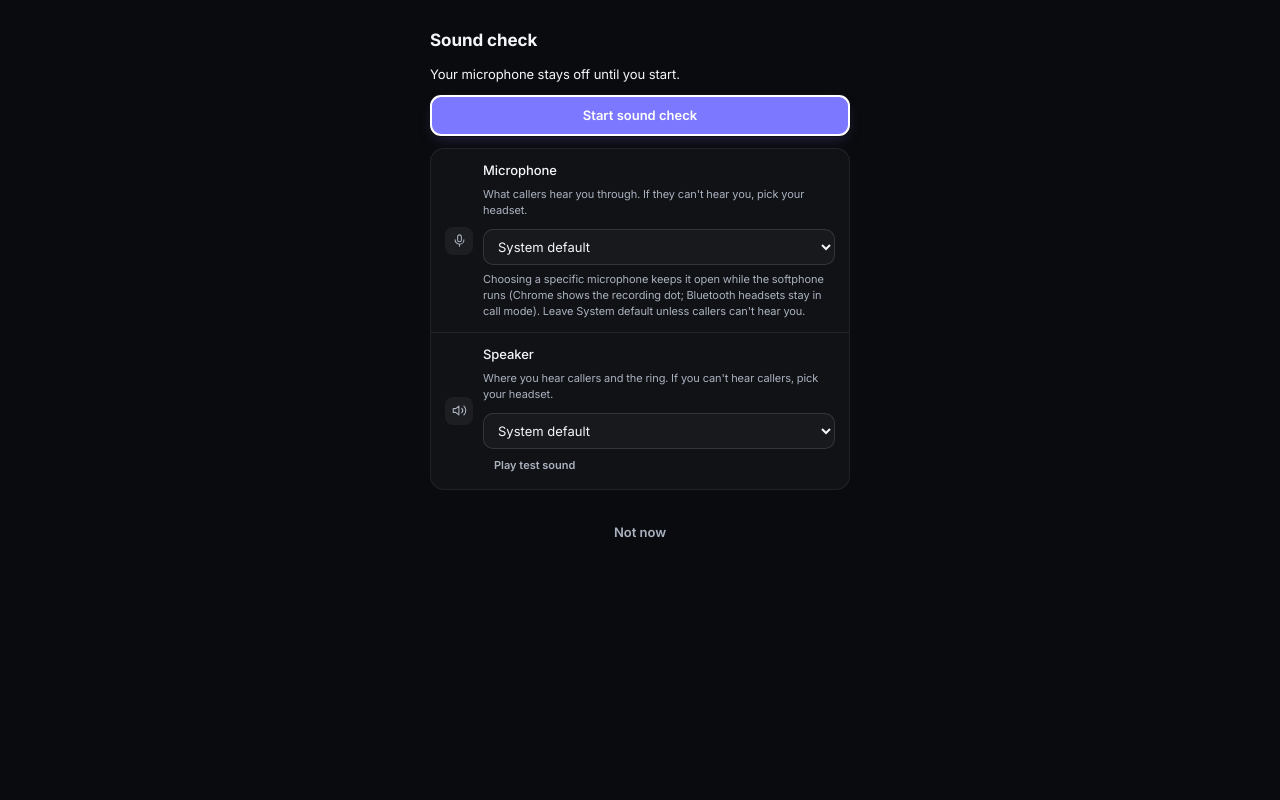
Test case: SoundCheck — an auto-opened check waits for a click › allowed: no getUserMedia until "Start sound check" is clicked; then the meter runs
Click the button "Start sound check" at [640, 116], box [430,96,850,136]
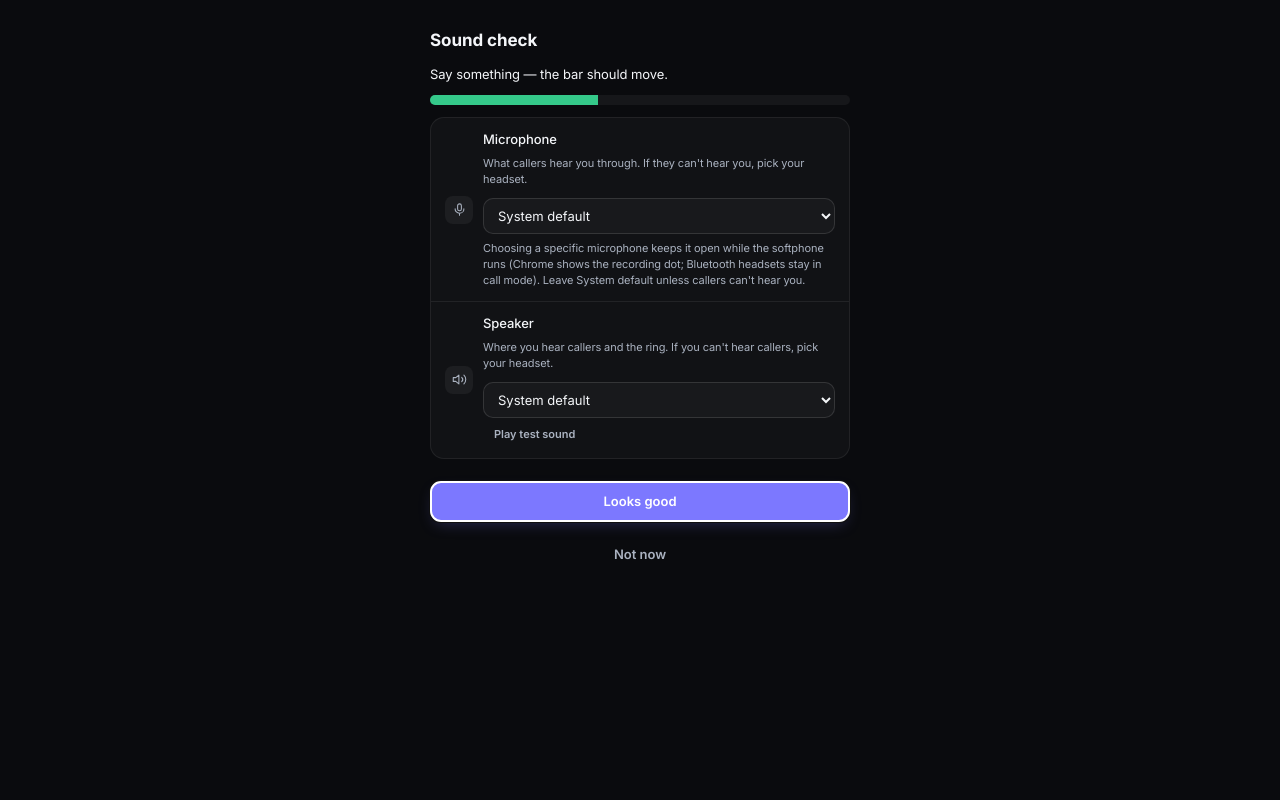
expect the progress indicator named "Microphone level" is shown: met, box [430,96,850,106]
